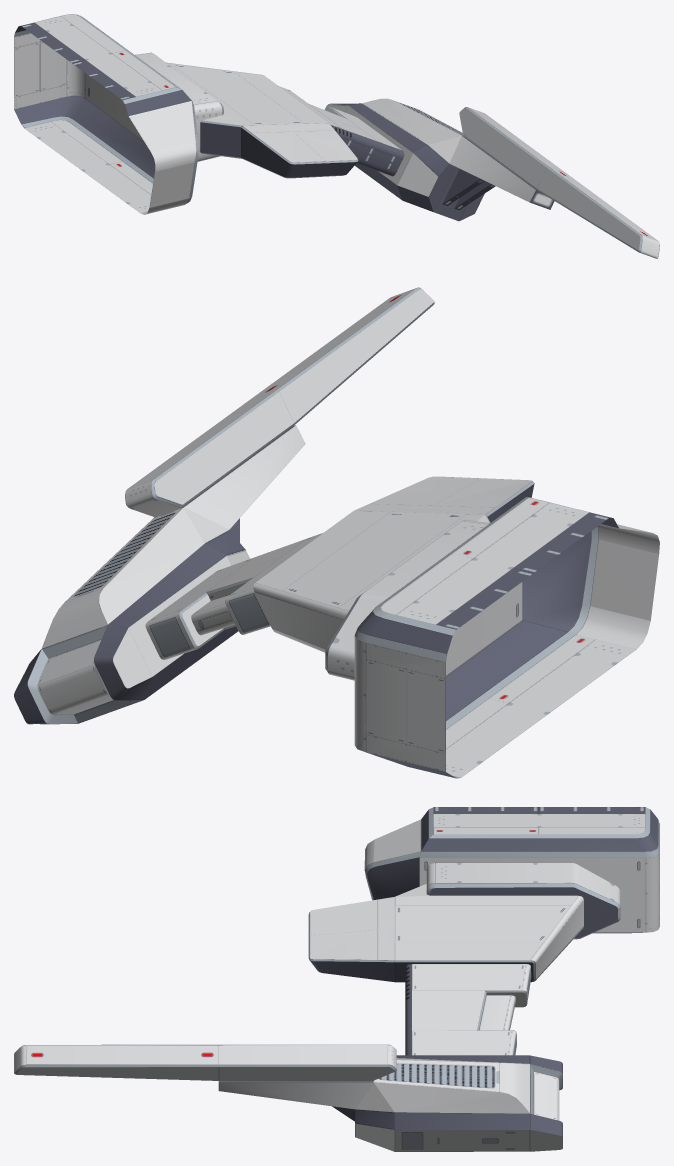
The model's file is Cruiser_Wing_01_Left.FBX.
The picture shows the model from 3 angles, top to bottom: view 1: azimuth 30°, elevation 25°; view 2: azimuth 150°, elevation 25°; view 3: azimuth 270°, elevation 25°; orthographic projection. The views are drawn at different scales.
Parts seen in each view (by area): view 1: Cruiser_Wing_01_Left; view 2: Cruiser_Wing_01_Left; view 3: Cruiser_Wing_01_Left.
Boxes of the visible parts, <box> form: Cruiser_Wing_01_Left: <box>14,14,659,258</box>; Cruiser_Wing_01_Left: <box>14,287,659,778</box>; Cruiser_Wing_01_Left: <box>14,807,659,1151</box>.
Size of the model in its own units: 128 by 63.35 by 201.
